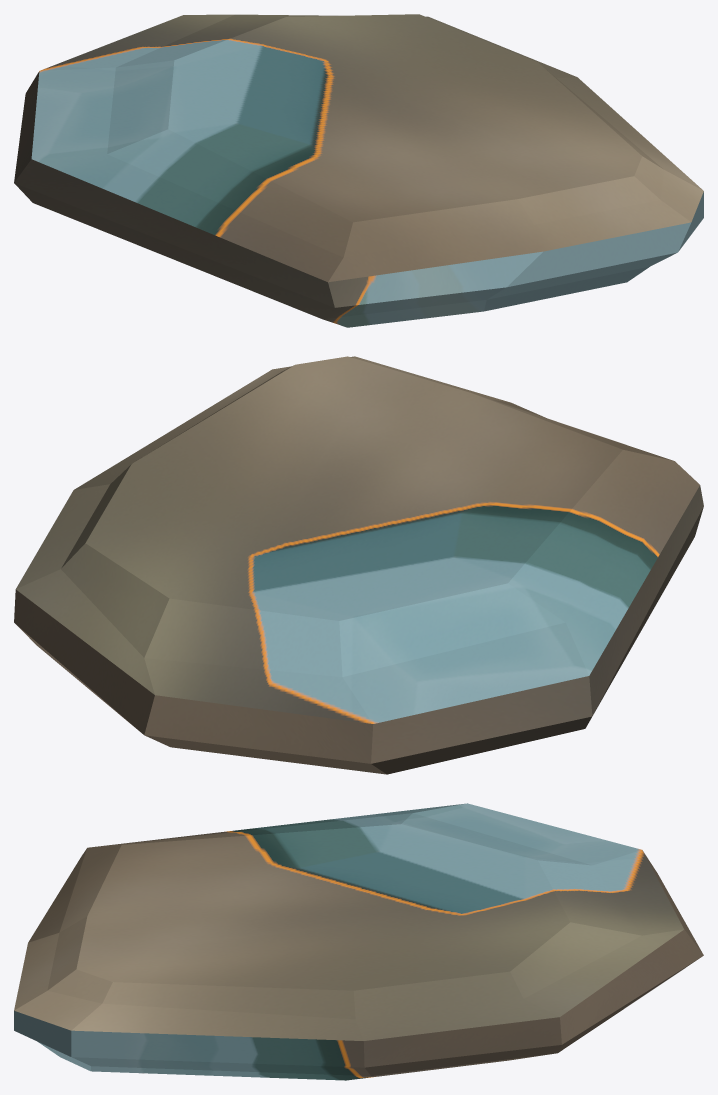
The model's file is flat_stone.fbx.
3 renders of one model, top to bottom at view 1: azimuth 30°, elevation 25°; view 2: azimuth 150°, elevation 25°; view 3: azimuth 270°, elevation 25°, orthographic. The views are drawn at different scales.
Parts seen in each view (by area): view 1: Cylinder; view 2: Cylinder; view 3: Cylinder.
Boxes of the visible parts, x1,y1,x2,y2 form: Cylinder: (14,14,703,327); Cylinder: (14,356,703,774); Cylinder: (14,803,703,1080).
Bounding box in the file's own units: 170 × 31.18 × 205.
